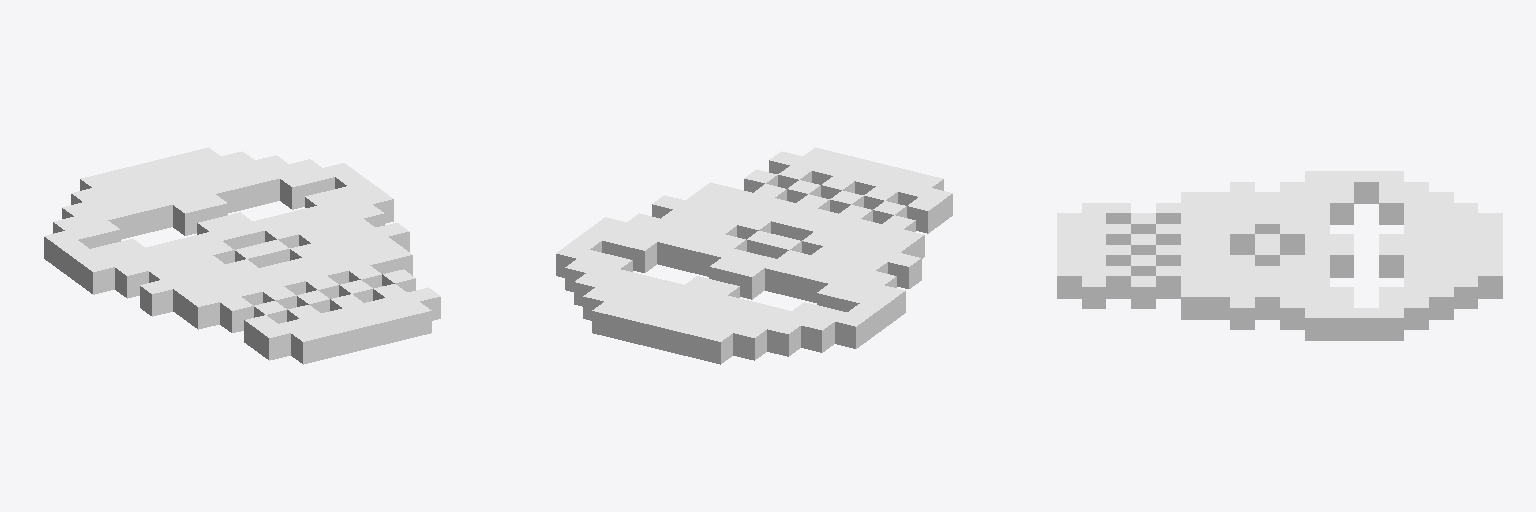
File: bill_gates_skeleton.obj
3 renders of one model, left to right at view 1: azimuth 30°, elevation 25°; view 2: azimuth 150°, elevation 25°; view 3: azimuth 270°, elevation 25°, orthographic.
Bounding box in the file's own units: 14 × 1 × 18.